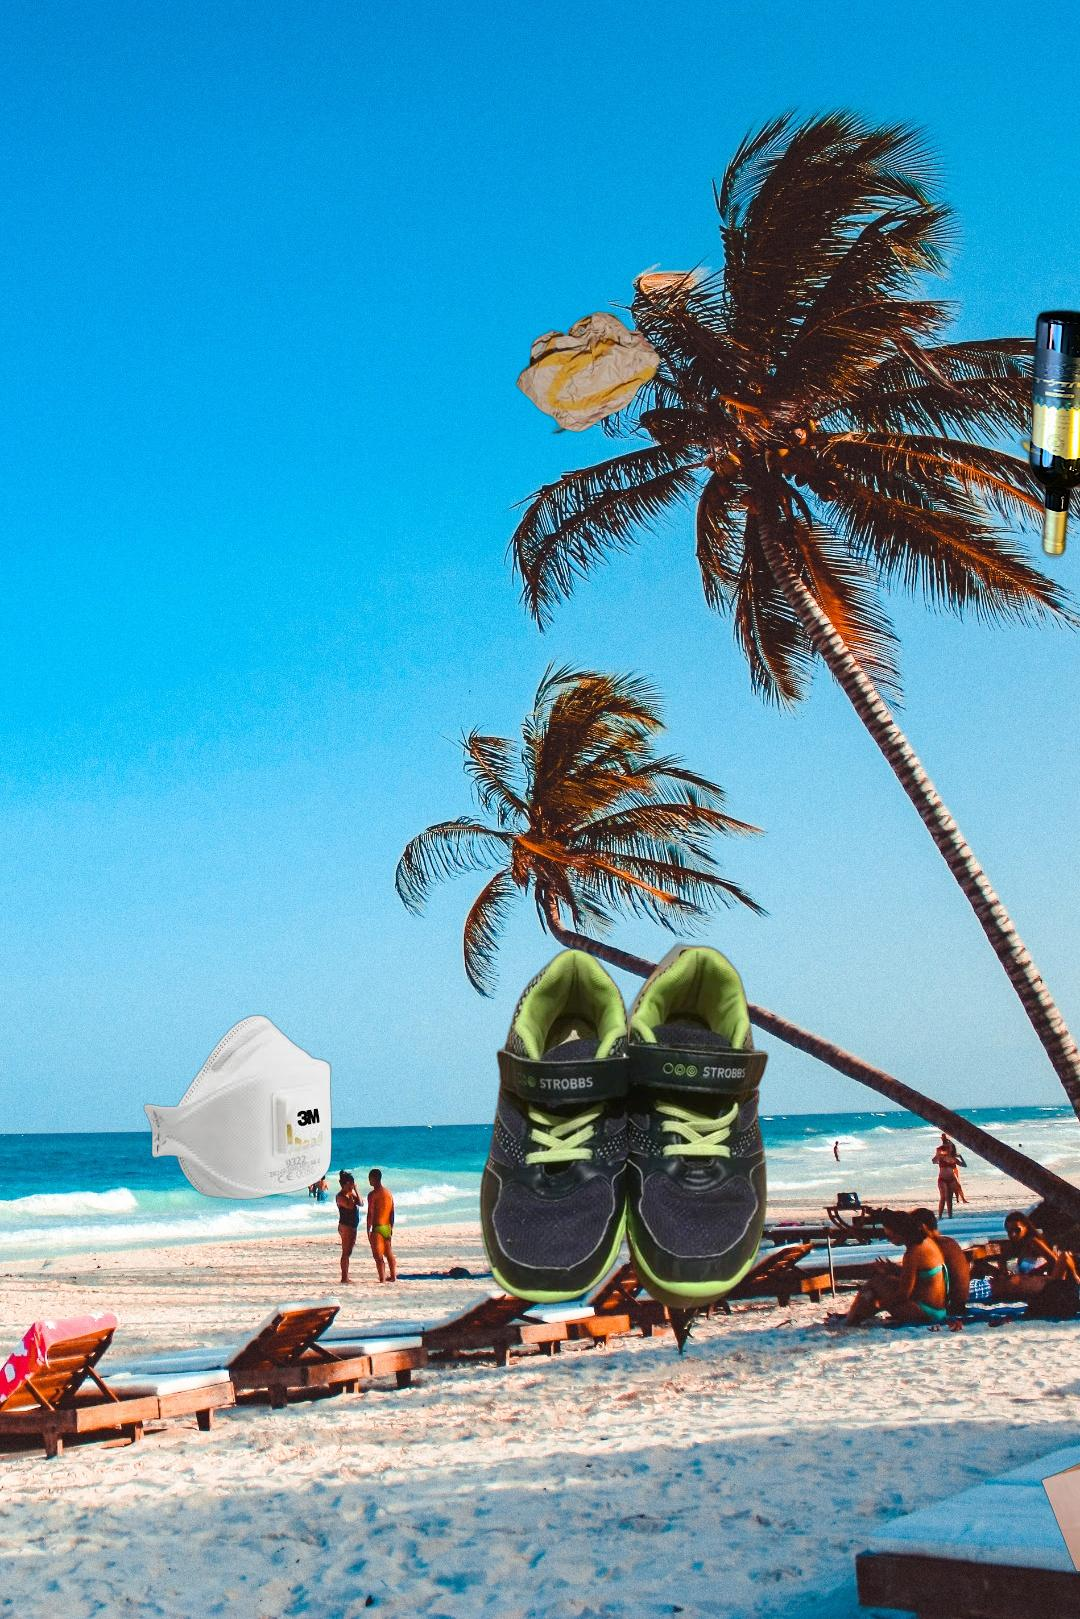glass: (1016, 304, 1080, 563)
paper-bag: (513, 309, 663, 438), (1040, 1449, 1080, 1586)
shoes: (476, 938, 770, 1315)
trash: (141, 1013, 334, 1202)
